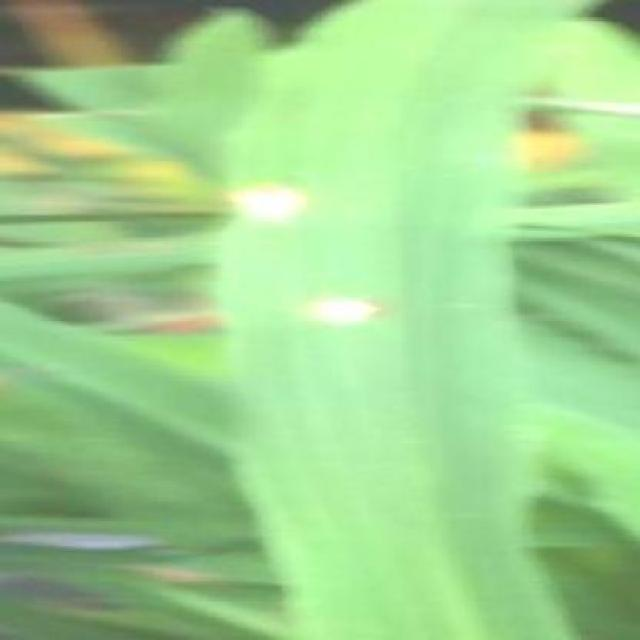Bacterial_Leaf_Blight: (264, 272, 411, 354), (197, 173, 309, 242)
